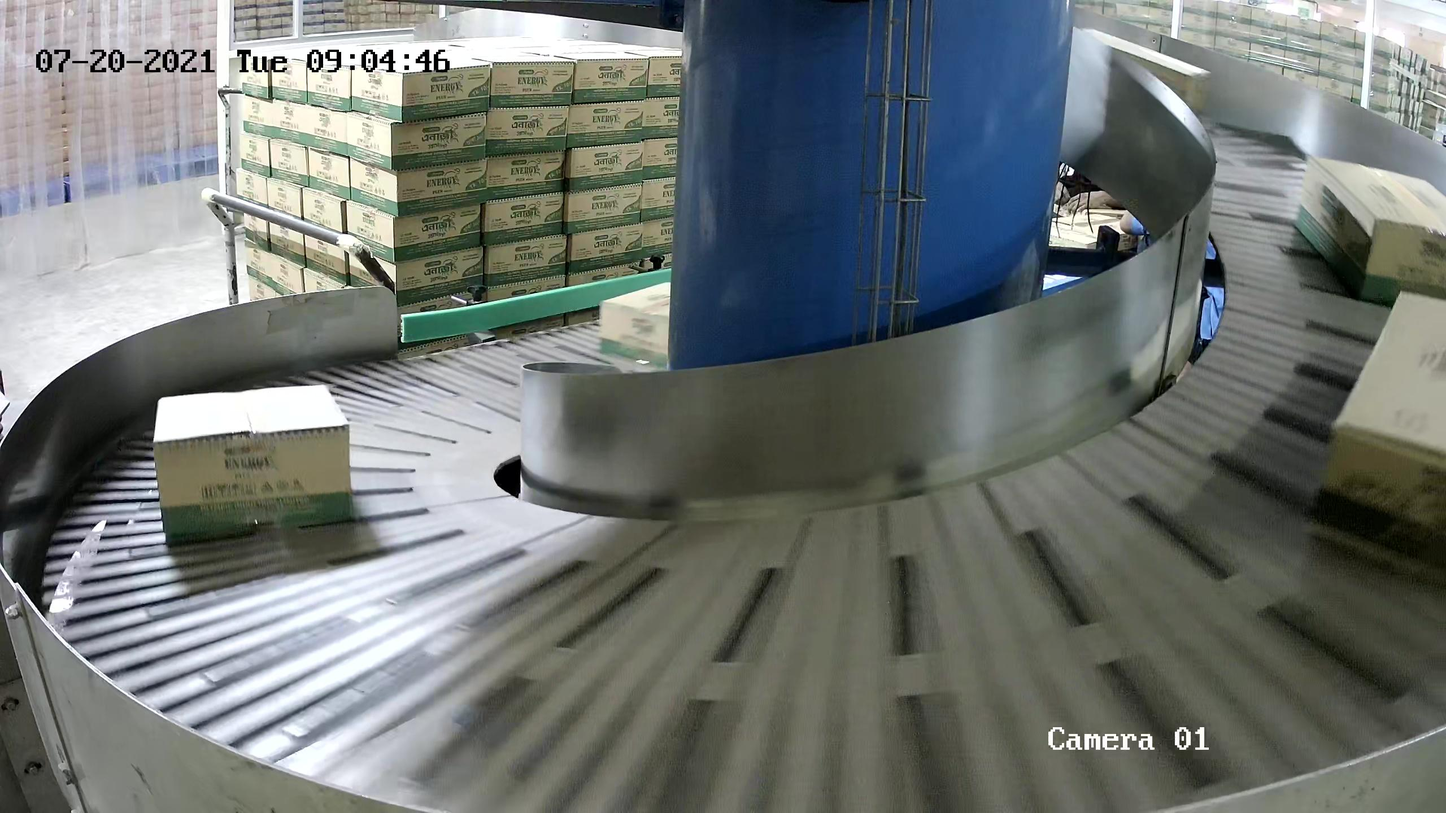Box: (1302, 287, 1446, 588), (151, 382, 356, 536), (1293, 152, 1446, 304), (599, 281, 671, 370)
